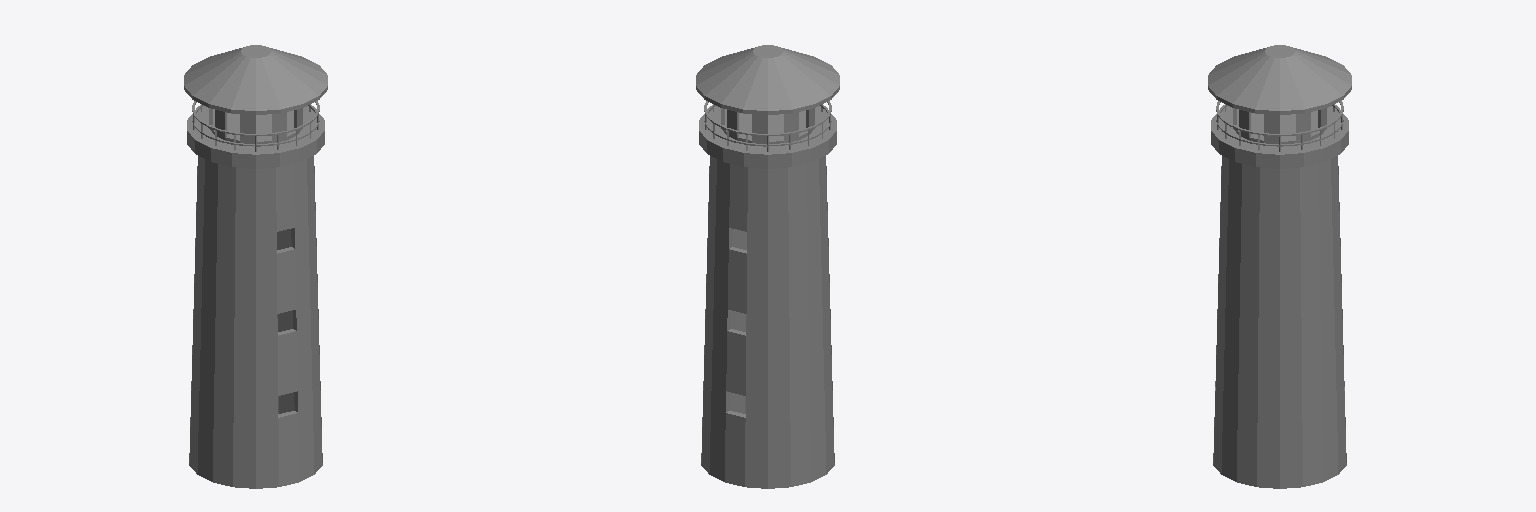
File: LightHouse.obj
3 renders of one model, left to right at view 1: azimuth 30°, elevation 25°; view 2: azimuth 150°, elevation 25°; view 3: azimuth 270°, elevation 25°, orthographic.
Parts seen in each view (by area): view 1: Line031; view 2: Line031; view 3: Line031.
Boxes of the visible parts, x1,y1,x2,y2 form: Line031: [184, 45, 327, 488]; Line031: [696, 45, 839, 488]; Line031: [1208, 45, 1351, 488].
Bounding box in the file's own units: 4.73 × 14.59 × 4.65.